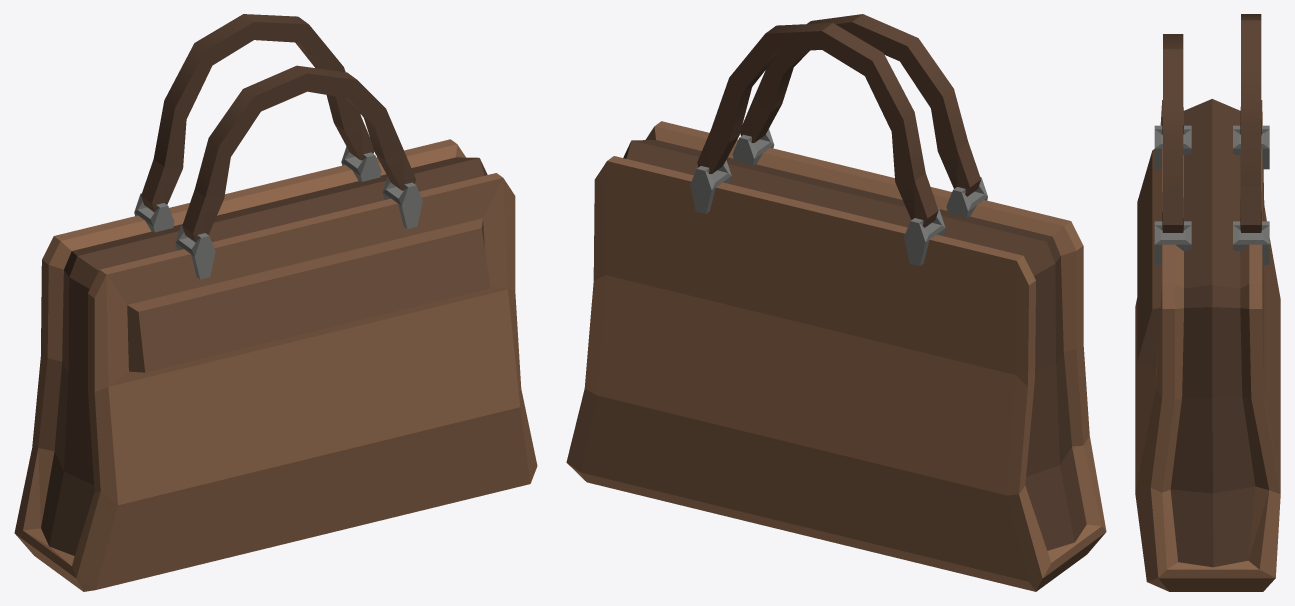
File: SM_Prop_Briefcase_02.fbx
The picture shows the model from 3 angles, left to right: view 1: azimuth 30°, elevation 25°; view 2: azimuth 150°, elevation 25°; view 3: azimuth 270°, elevation 25°; orthographic projection. The views are drawn at different scales.
Parts seen in each view (by area): view 1: SM_Prop_Briefcase_02; view 2: SM_Prop_Briefcase_02; view 3: SM_Prop_Briefcase_02.
Boxes of the visible parts, x1,y1,x2,y2 form: SM_Prop_Briefcase_02: [14, 14, 537, 591]; SM_Prop_Briefcase_02: [566, 14, 1106, 591]; SM_Prop_Briefcase_02: [1135, 14, 1280, 591].
Bounding box in the file's own units: 50.48 × 51.44 × 14.54.
1 material, 1 textured.
